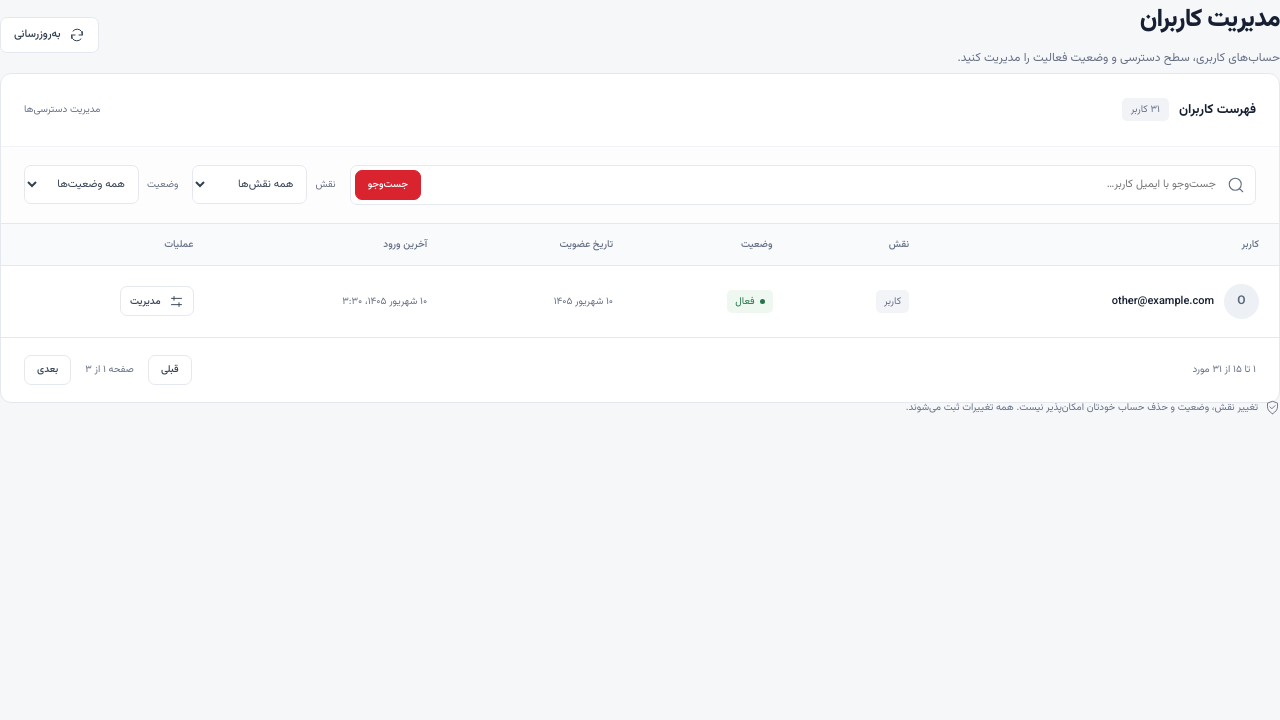
deleting the last row on page two returns to the previous page
The width and height of the screenshot is (1280, 720).
Click the button "بعدی". click: (48, 370)
box: 24,355 -> 71,385
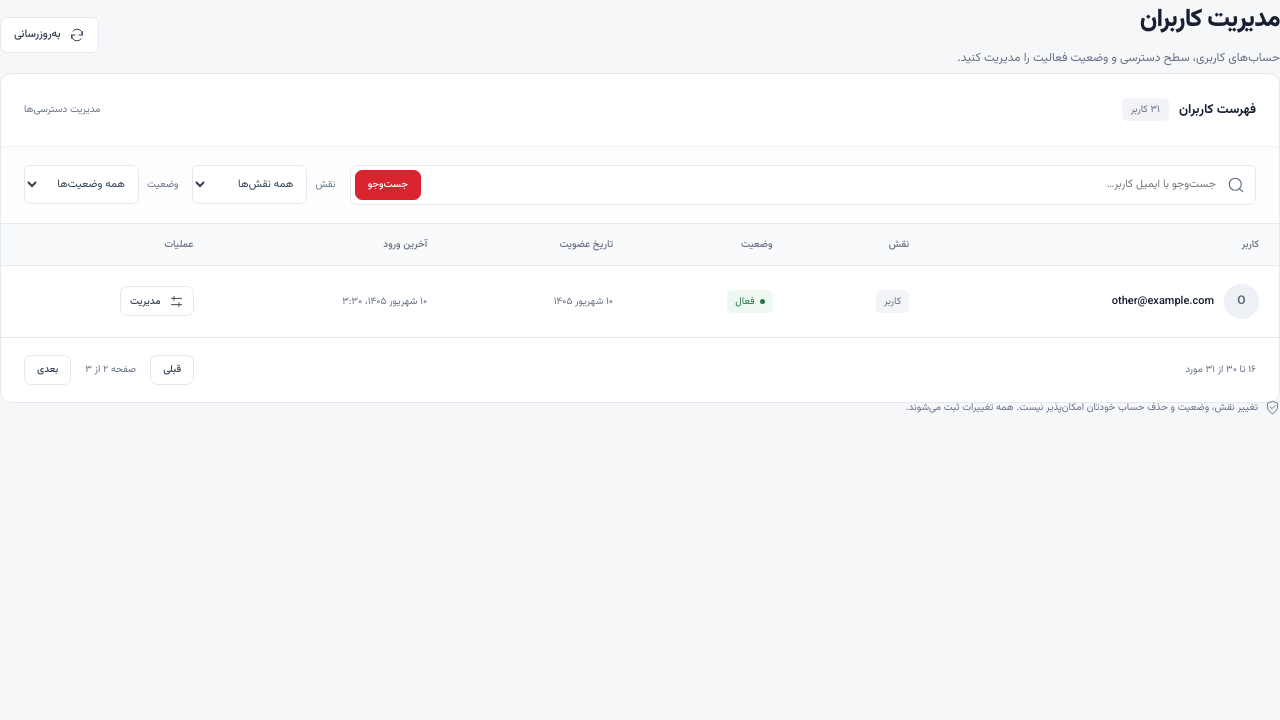
Click the button "مدیریت". click: (157, 301)
box: 120,286 -> 194,316
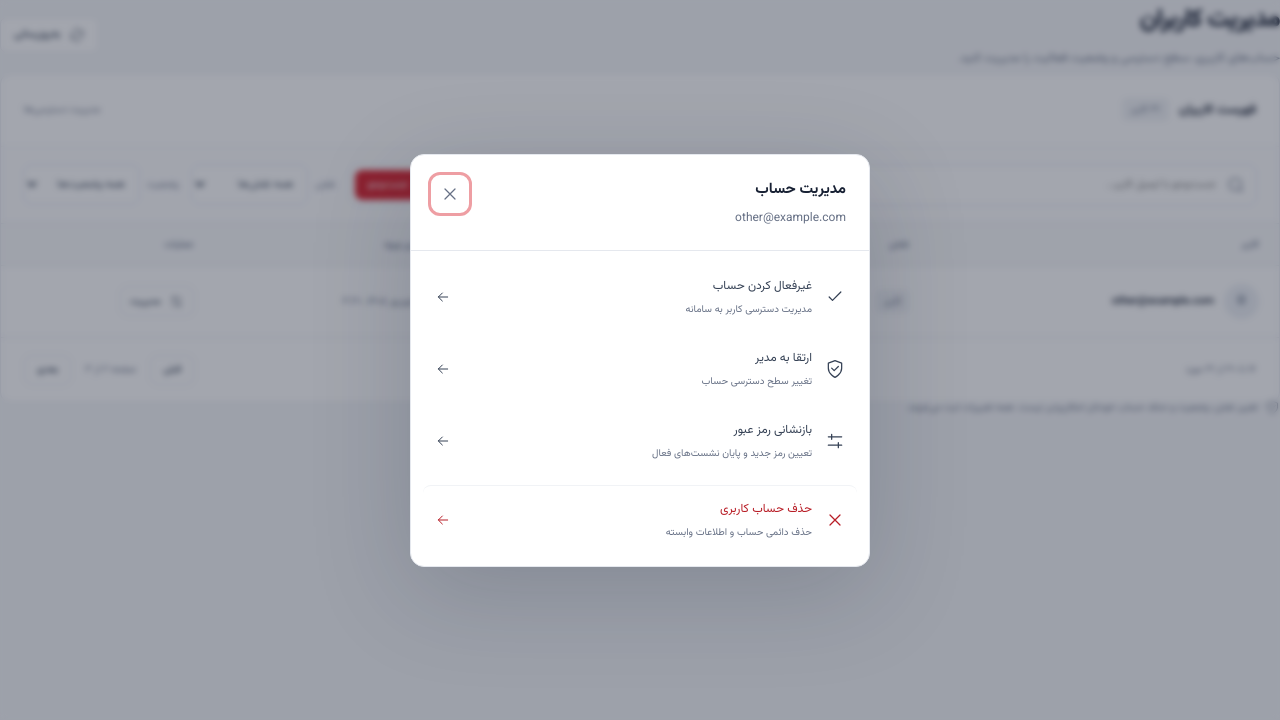
Click the button "حذف حساب کاربری حذف دائمی حساب و اطلاعات وابسته". click: (766, 508)
box: 423,484 -> 857,554
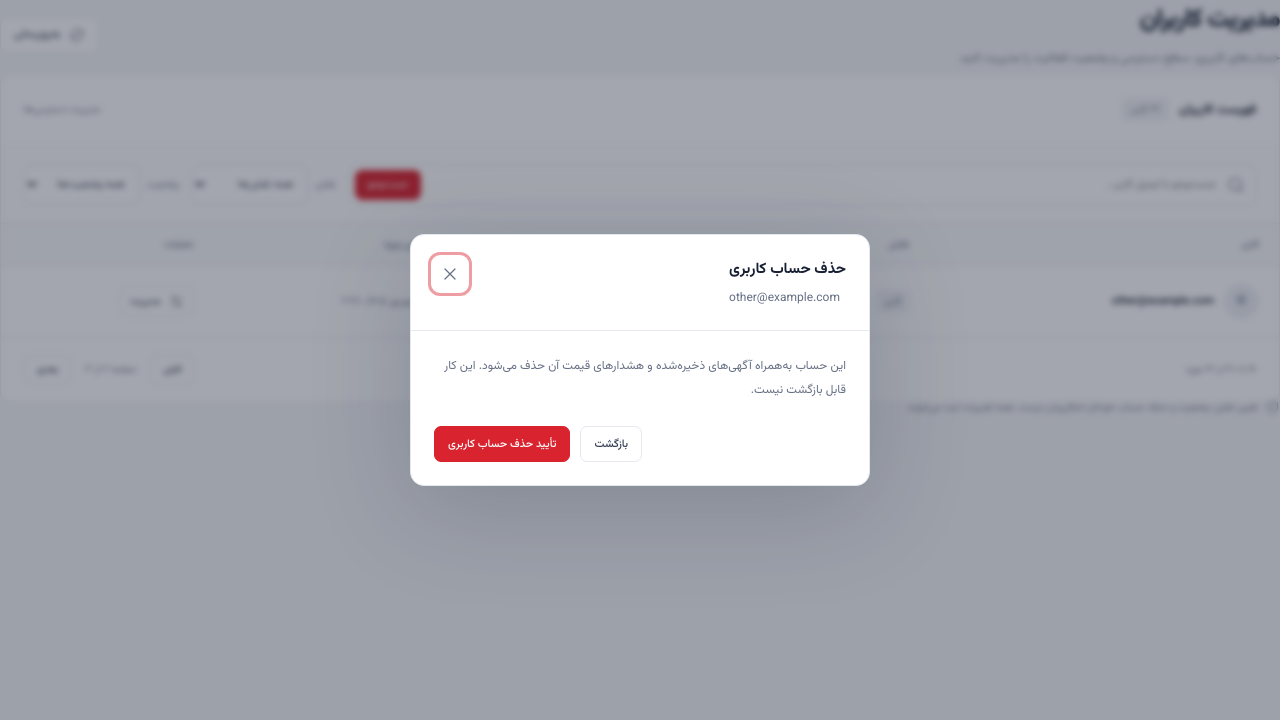
Click the button "تأیید حذف حساب کاربری". click: (502, 444)
box: 434,426 -> 570,462
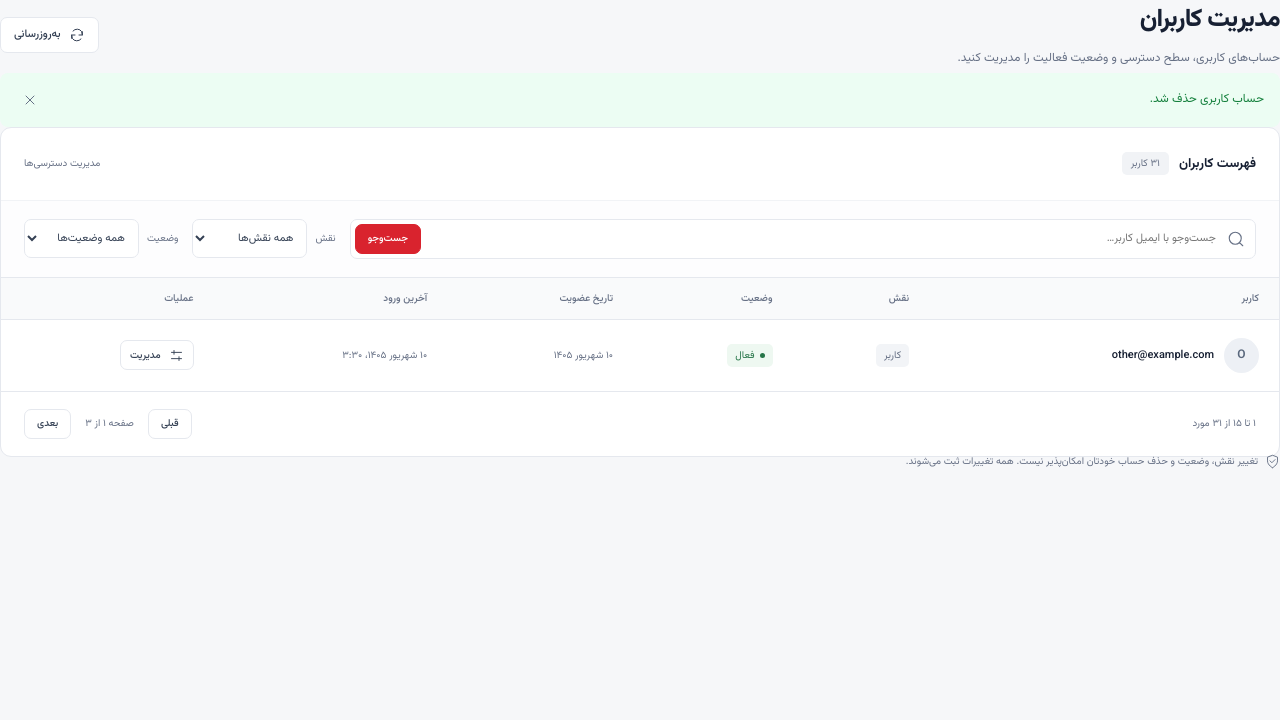
Expected: the button named "بستن پیام" is shown, 16,86 -> 44,114
